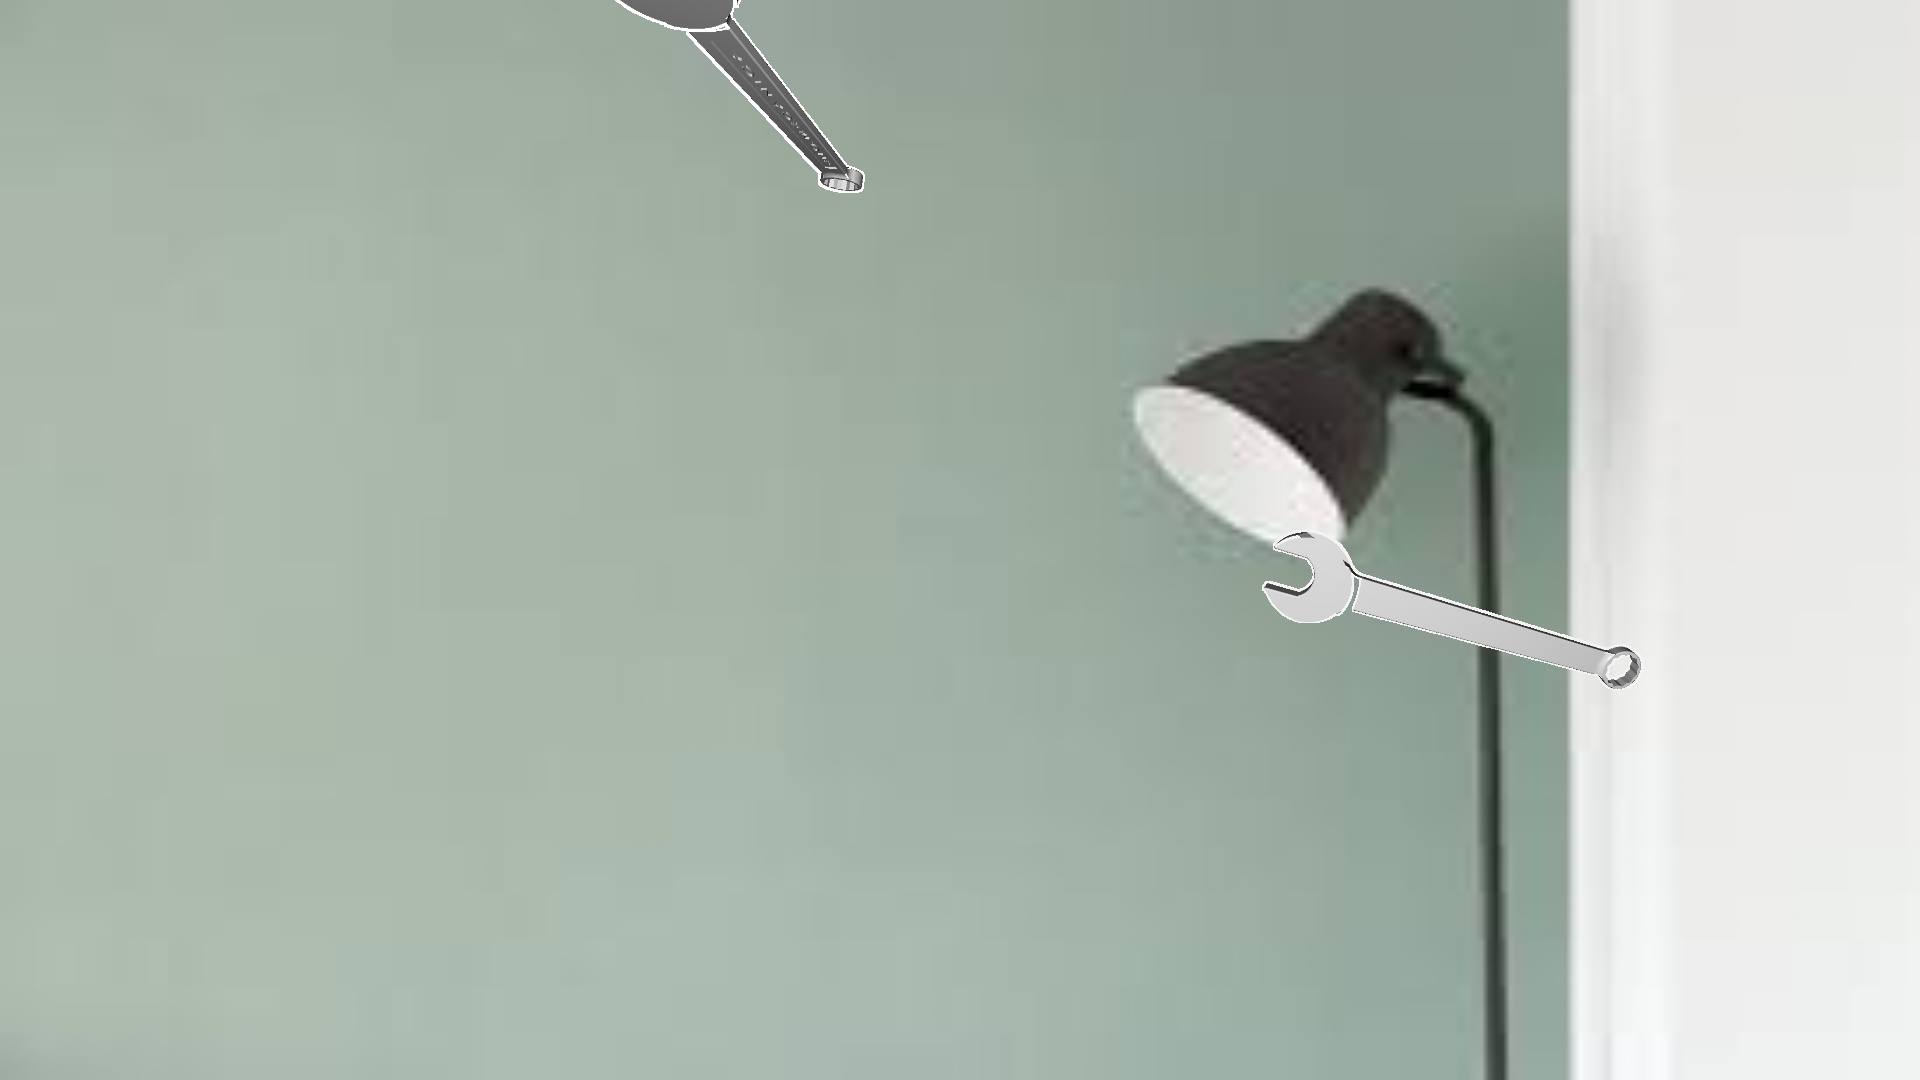Mixed Key: (1262, 530, 1643, 688), (615, 0, 864, 193)
